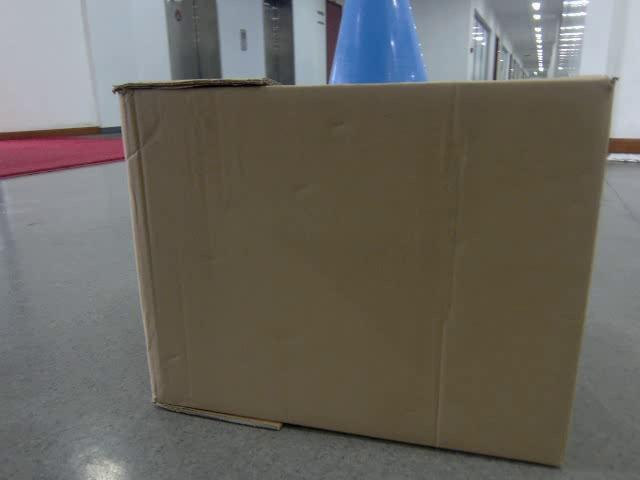blue_barrel: (323, 0, 429, 86)
